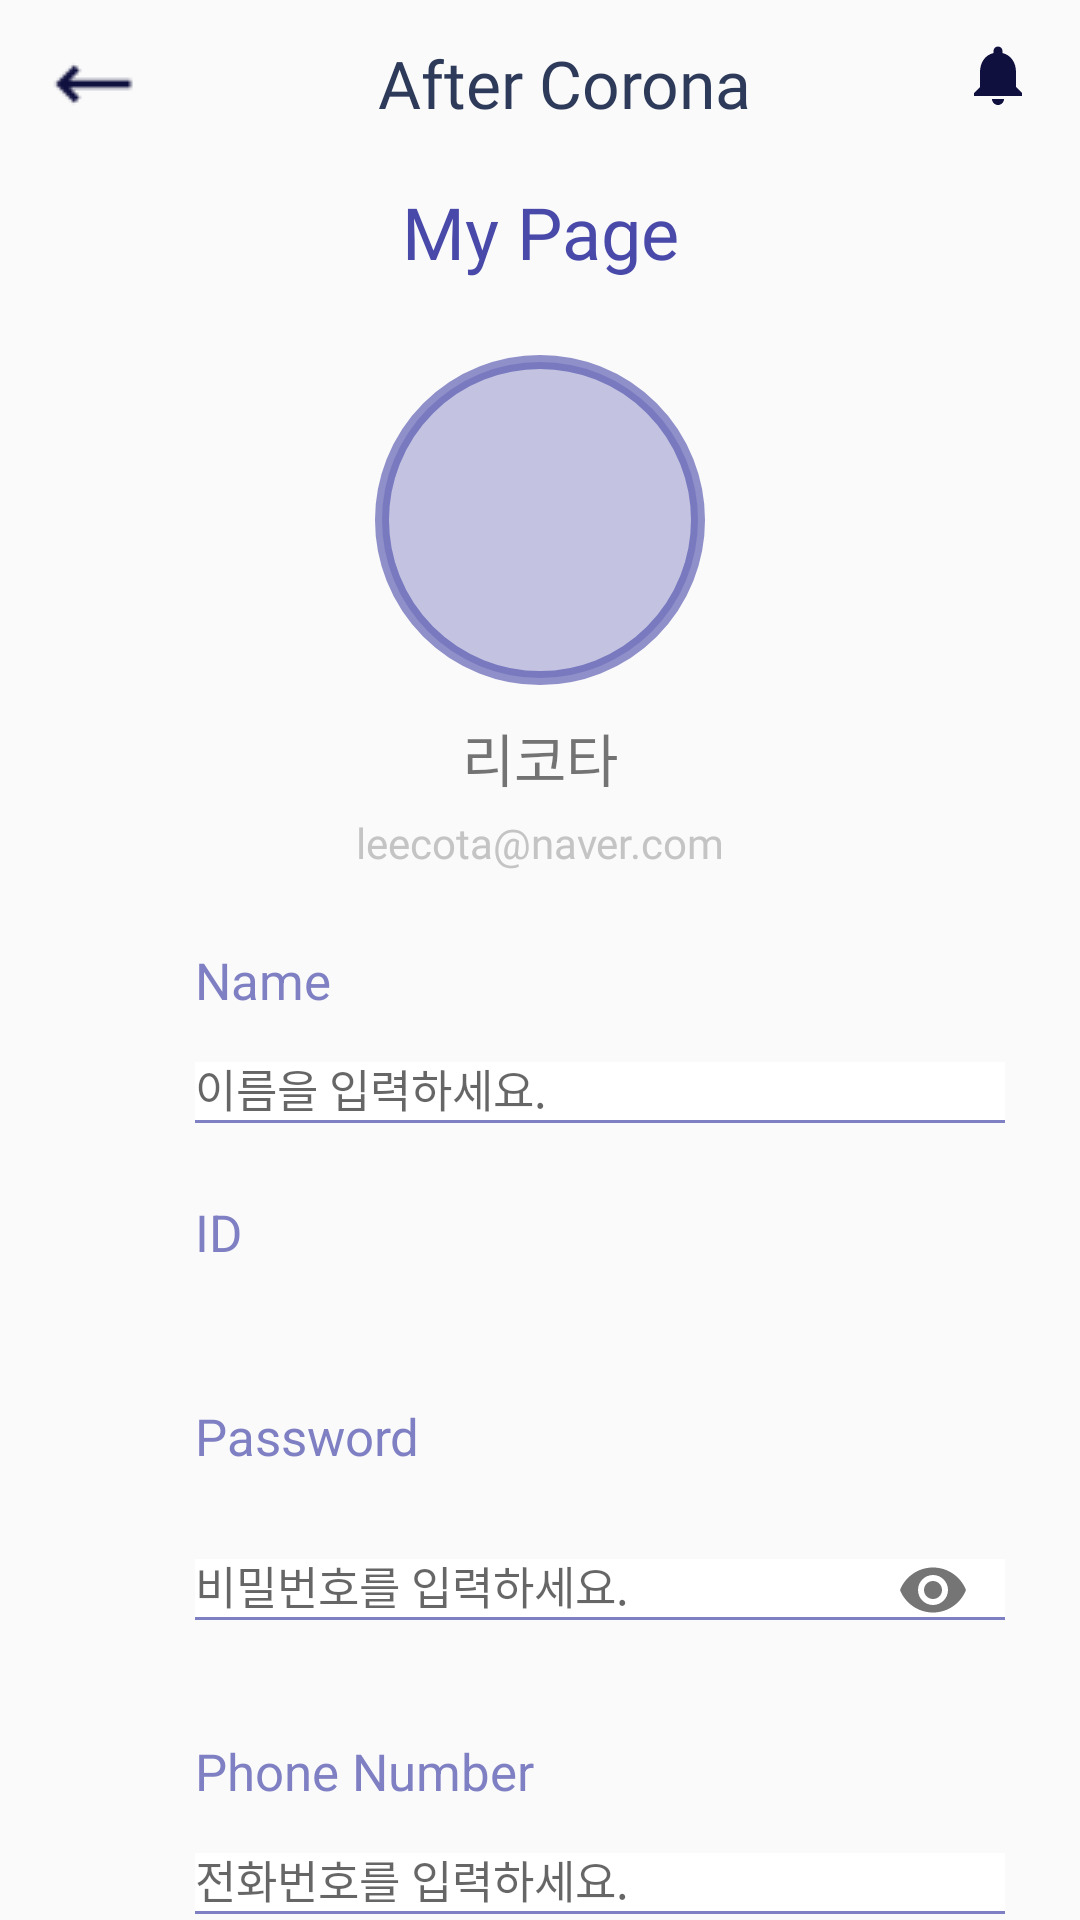

Screen size 1080px×1920px. Icon name, then its center in pixels as (x=x, y=y):
long left: (x=94, y=84)
notifications: (x=998, y=75)
